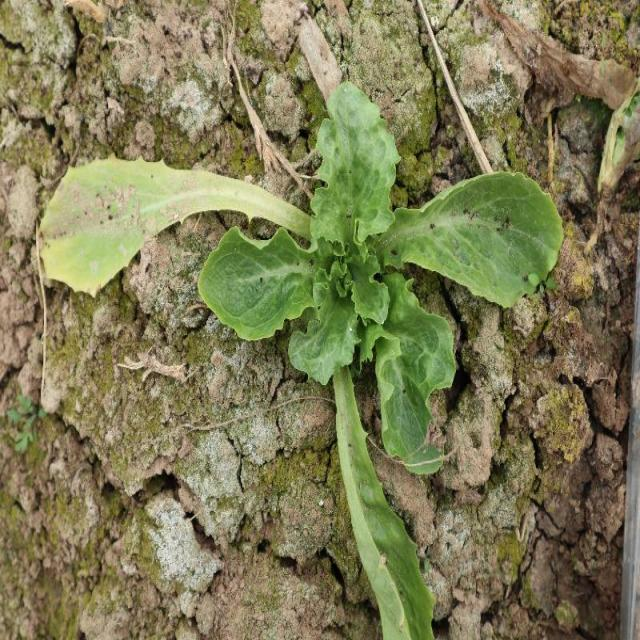crop: (198, 75, 562, 481)
